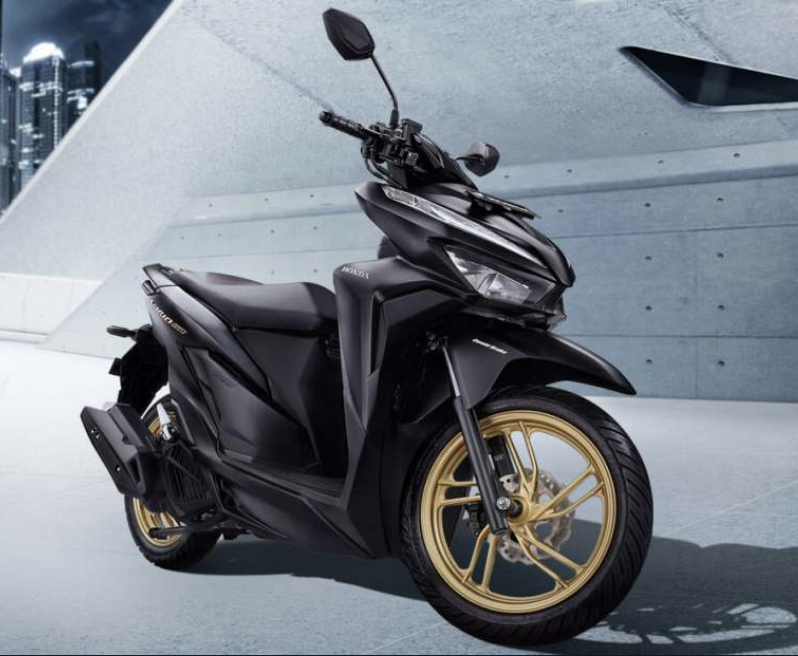motor: (58, 102, 658, 633)
